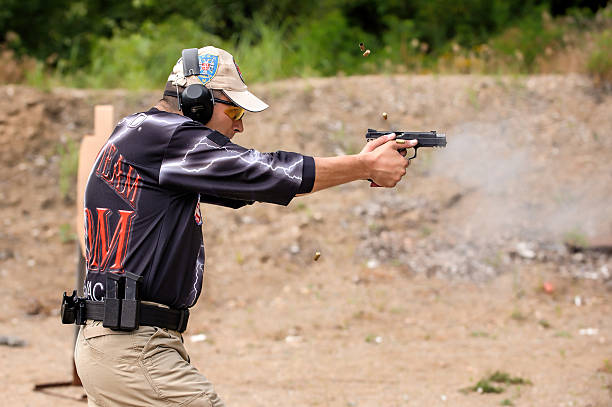gun: (364, 128, 448, 188)
